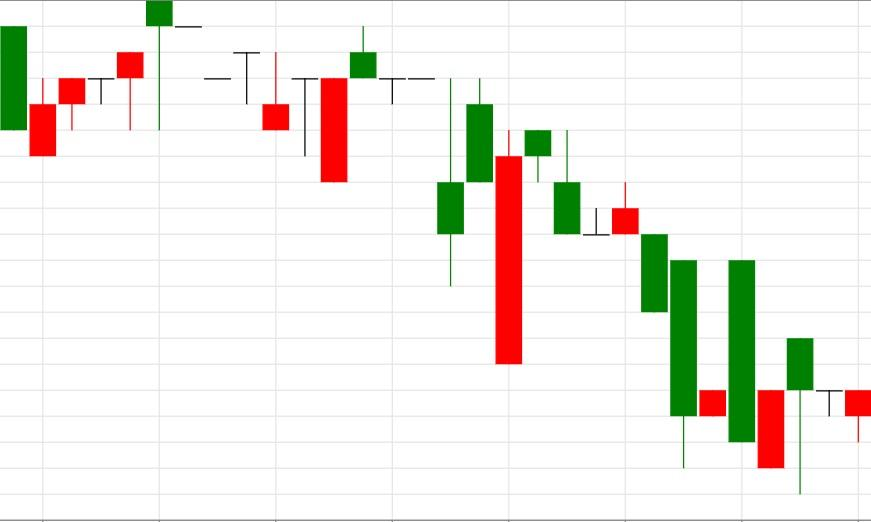hanging_man_fall: (29, 0, 173, 157)
